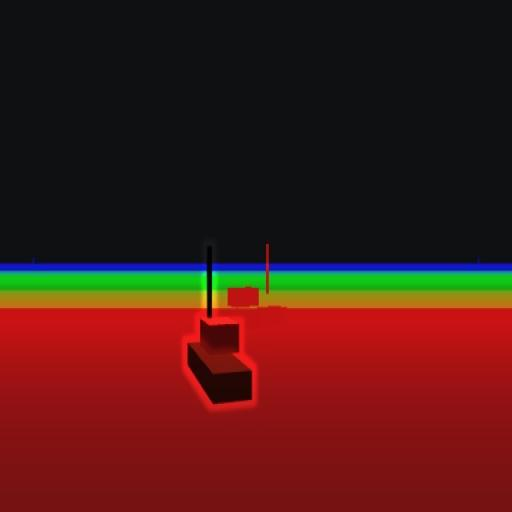fishing_boat: (185, 258, 257, 409)
